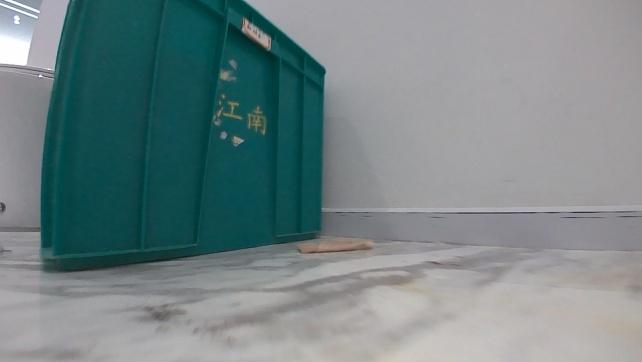socks: (296, 235, 375, 256)
toilet: (0, 57, 54, 234)
